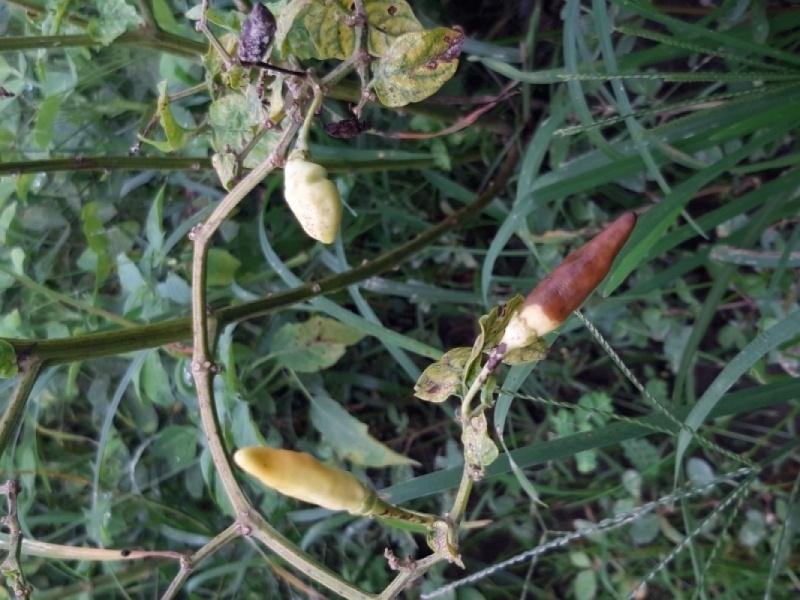cabai_normal: (233, 444, 366, 510), (285, 158, 342, 242)
lalat_buah: (521, 210, 636, 334)
